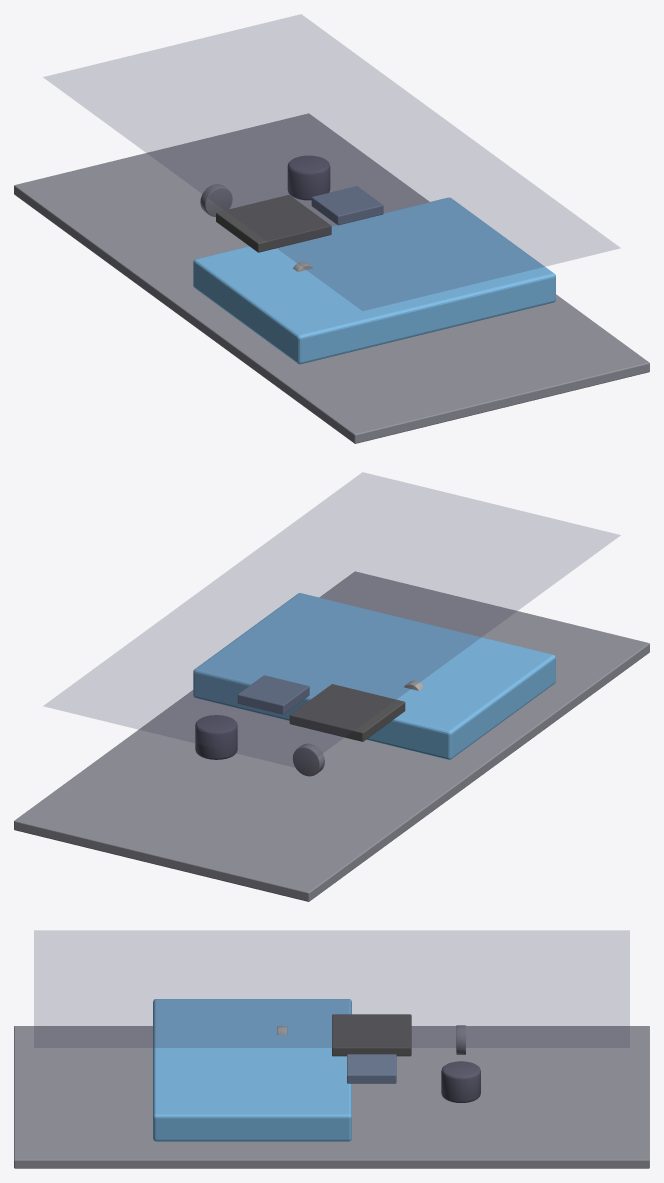
Rendered from tech_smartphone_assemblage_v1.glb.
3 renders of one model, top to bottom at view 1: azimuth 30°, elevation 25°; view 2: azimuth 150°, elevation 25°; view 3: azimuth 270°, elevation 25°, orthographic. The views are drawn at different scales.
Visible parts, largest first — view 1: screen, chassis, battery, cpu, pmic, camera, speaker; view 2: screen, chassis, battery, cpu, pmic, camera, speaker; view 3: screen, chassis, battery, cpu, camera, pmic.
Part boxes in pixels (x1=…): screen: x1=43, y1=14, x2=619, y2=310; chassis: x1=14, y1=113, x2=649, y2=443; battery: x1=193, y1=197, x2=555, y2=364; cpu: x1=216, y1=195, x2=331, y2=252; pmic: x1=311, y1=186, x2=383, y2=225; camera: x1=287, y1=155, x2=330, y2=200; speaker: x1=200, y1=184, x2=232, y2=216; screen: x1=44, y1=472, x2=620, y2=768; chassis: x1=14, y1=571, x2=649, y2=901; battery: x1=193, y1=593, x2=555, y2=759; cpu: x1=289, y1=684, x2=405, y2=741; pmic: x1=237, y1=675, x2=309, y2=714; camera: x1=195, y1=715, x2=237, y2=759; speaker: x1=292, y1=743, x2=324, y2=776; screen: x1=34, y1=930, x2=629, y2=1047; chassis: x1=14, y1=1026, x2=649, y2=1168; battery: x1=153, y1=999, x2=351, y2=1141; cpu: x1=332, y1=1014, x2=411, y2=1056; camera: x1=441, y1=1061, x2=480, y2=1102; pmic: x1=347, y1=1054, x2=396, y2=1083.
Bounding box in the file's own units: 3.2 × 1.28 × 6.4.
